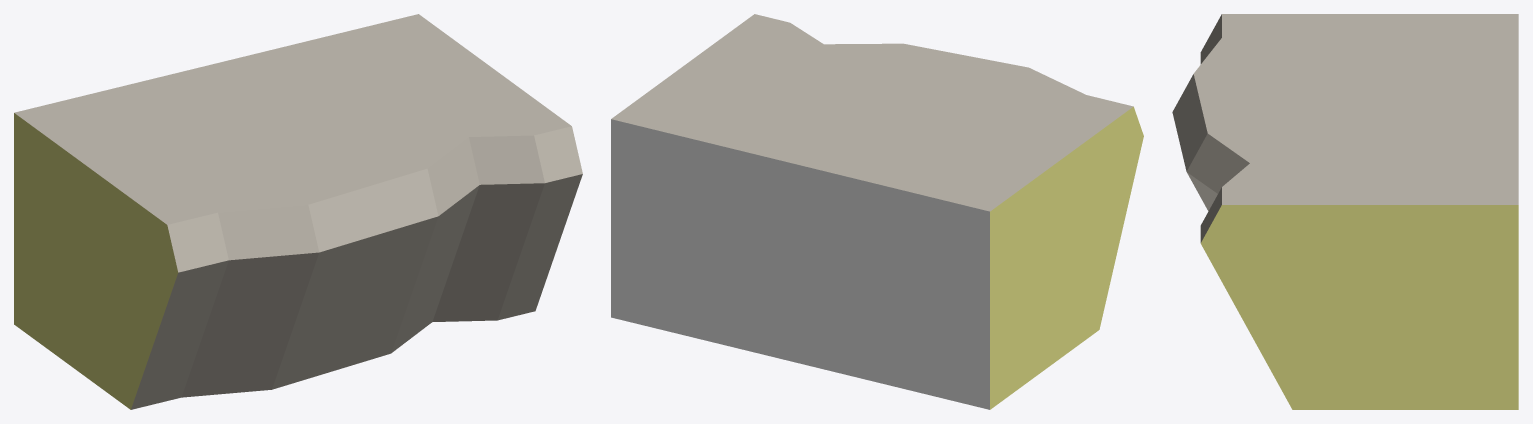
Rendered from Cracked_Straight_2x2_1_Top.glb.
The picture shows the model from 3 angles, left to right: view 1: azimuth 30°, elevation 25°; view 2: azimuth 150°, elevation 25°; view 3: azimuth 270°, elevation 25°; orthographic projection. The views are drawn at different scales.
Parts seen in each view (by area): view 1: Cracked_Straight_2x2_1_Top; view 2: Cracked_Straight_2x2_1_Top; view 3: Cracked_Straight_2x2_1_Top.
Part boxes in pixels (x1,y1,x2,y2): Cracked_Straight_2x2_1_Top: (14,14,582,409); Cracked_Straight_2x2_1_Top: (611,14,1143,409); Cracked_Straight_2x2_1_Top: (1172,14,1518,409).
Size of the model in its own units: 200 by 100 by 153.
